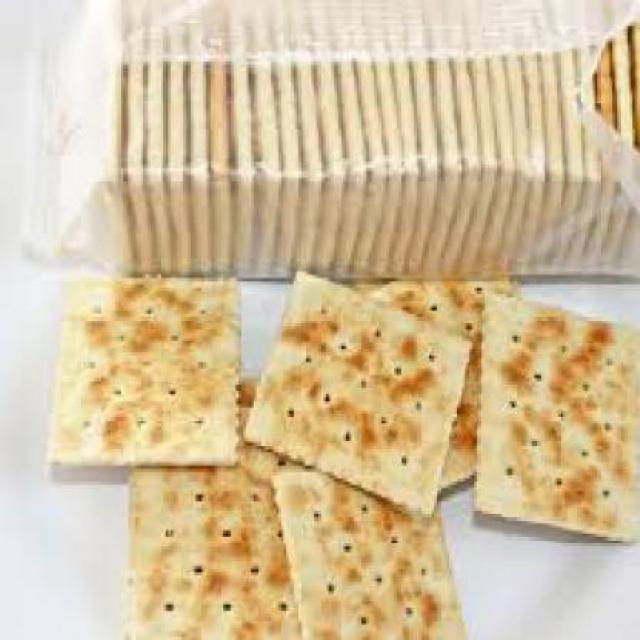Cracker packaged: (253, 268, 467, 526), (30, 258, 253, 478), (472, 294, 638, 536)
